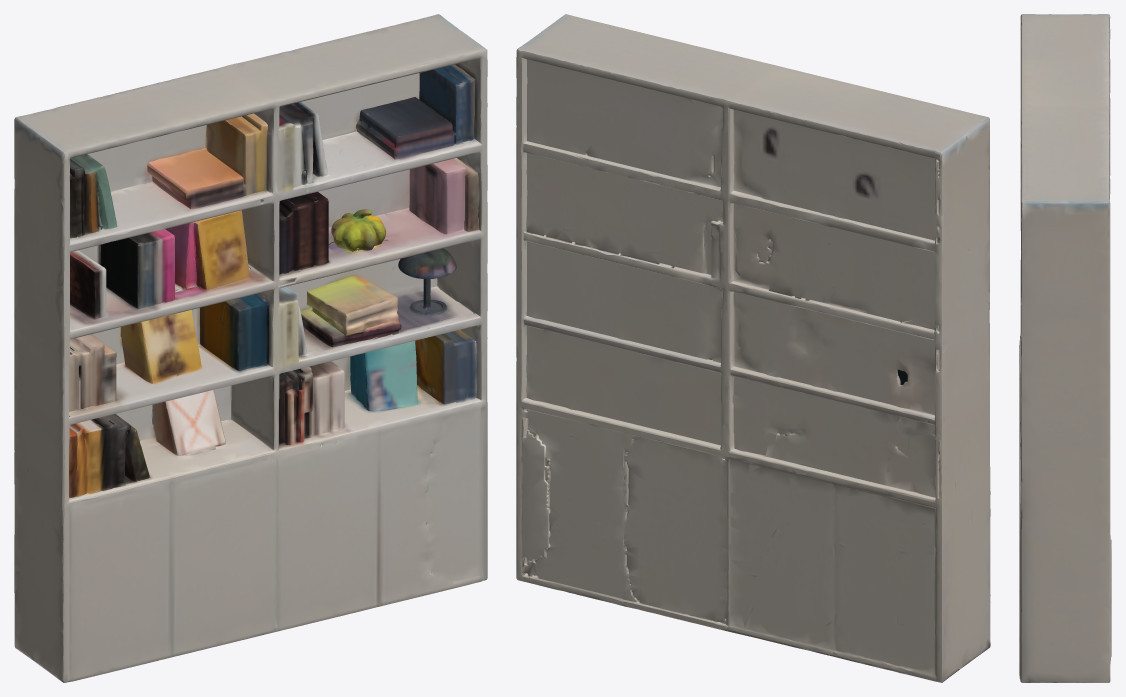
The model's file is item_1a0ab218.glb.
The picture shows the model from 3 angles, left to right: view 1: azimuth 30°, elevation 25°; view 2: azimuth 150°, elevation 25°; view 3: azimuth 270°, elevation 25°; orthographic projection. The views are drawn at different scales.
Parts seen in each view (by area): view 1: world; view 2: world; view 3: world.
Boxes of the visible parts, x1,y1,x2,y2 form: world: (14,14,487,682); world: (516,14,990,682); world: (1019,14,1111,682).
Size of the model in its own units: 1.85 by 2.2 by 0.3834.
Materials: 1 (1 with a texture image).
